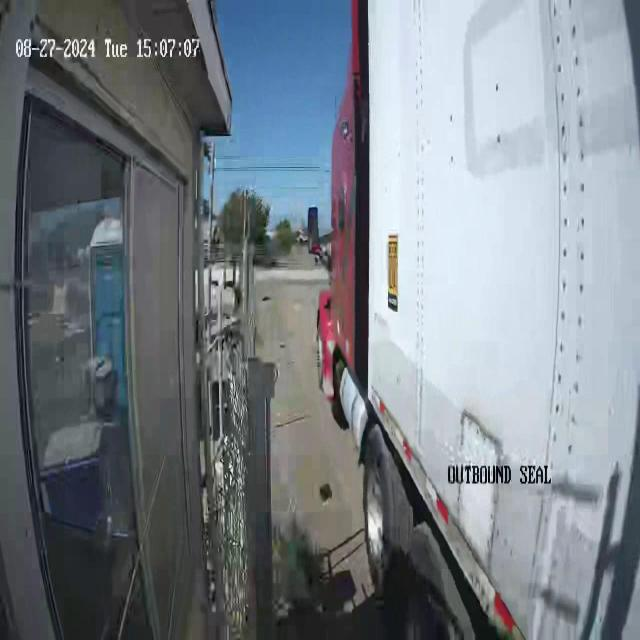TRUCK_CONTAINER: (305, 1, 639, 638)
